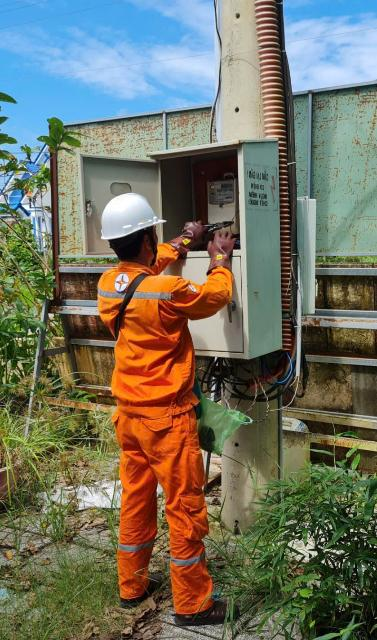gloves: (191, 230, 248, 277), (166, 206, 208, 260)
helmet: (81, 185, 176, 254)
shoes: (167, 599, 239, 633), (119, 569, 172, 610)
